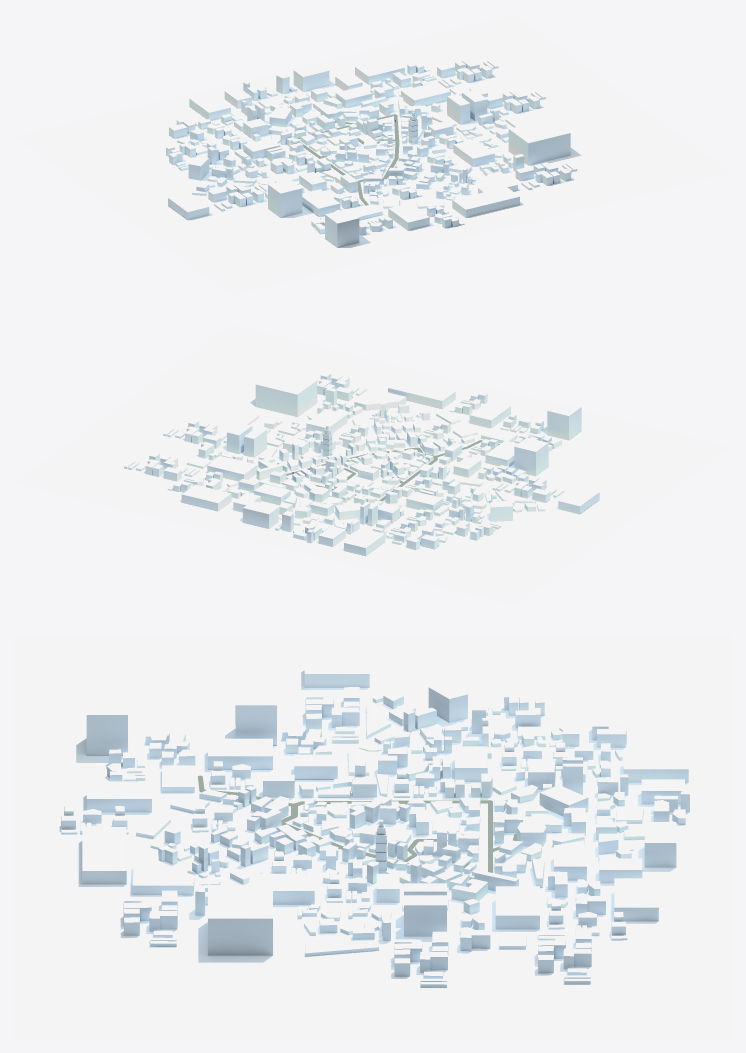
The model's file is blue.glb.
3 renders of one model, top to bottom at view 1: azimuth 30°, elevation 25°; view 2: azimuth 150°, elevation 25°; view 3: azimuth 270°, elevation 25°, orthographic. The views are drawn at different scales.
Parts seen in each view (by area): view 1: BASE, ARC, ROADDD; view 2: BASE, ARC, ROADDD; view 3: BASE, ARC, ROADDD.
Part boxes in pixels (x1,y1,x2,y2): BASE: [14, 14, 731, 295]; ARC: [166, 58, 576, 247]; ROADDD: [295, 114, 399, 205]; BASE: [14, 324, 731, 605]; ARC: [124, 370, 599, 556]; ROADDD: [286, 440, 499, 501]; BASE: [14, 634, 731, 1038]; ARC: [61, 656, 689, 987]; ROADDD: [198, 775, 517, 879].
Bounding box in the file's own units: 49.55 × 3.58 × 37.16.
Materials: 4 (3 with a texture image).
